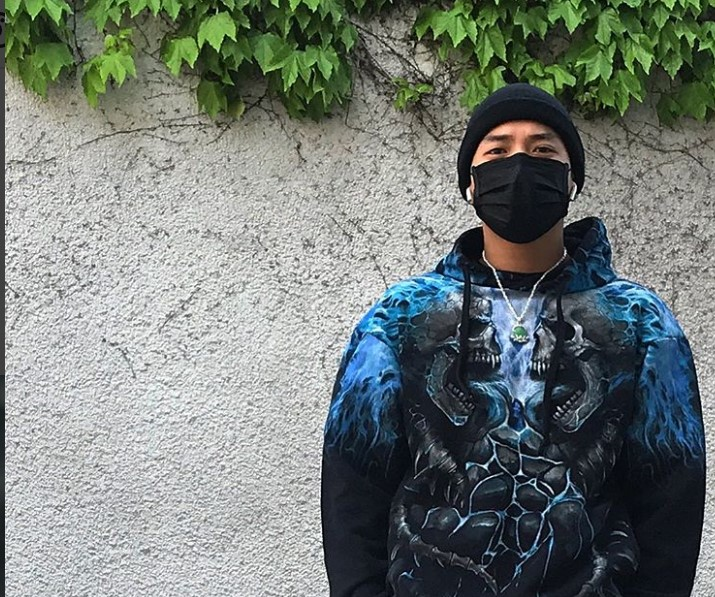face_with_mask: (456, 82, 587, 244)
